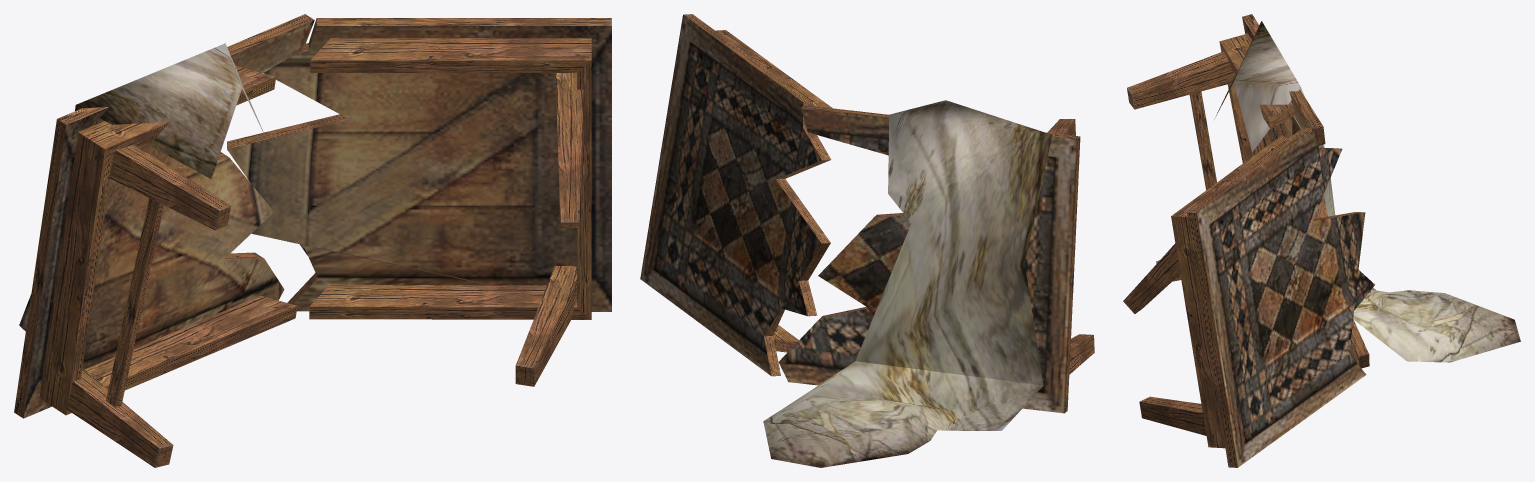
Rendered from Table02.glb.
The picture shows the model from 3 angles, left to right: view 1: azimuth 30°, elevation 25°; view 2: azimuth 150°, elevation 25°; view 3: azimuth 270°, elevation 25°; orthographic projection. The views are drawn at different scales.
Parts seen in each view (by area): view 1: _Table02; view 2: _Table02; view 3: _Table02.
Part boxes in pixels (left/top/right/bottom): _Table02: left=14, top=14, right=611, bottom=467; _Table02: left=640, top=14, right=1094, bottom=467; _Table02: left=1123, top=14, right=1520, bottom=467.
Size of the model in its own units: 2.58 by 1.41 by 2.02.
1 material, 1 textured.
